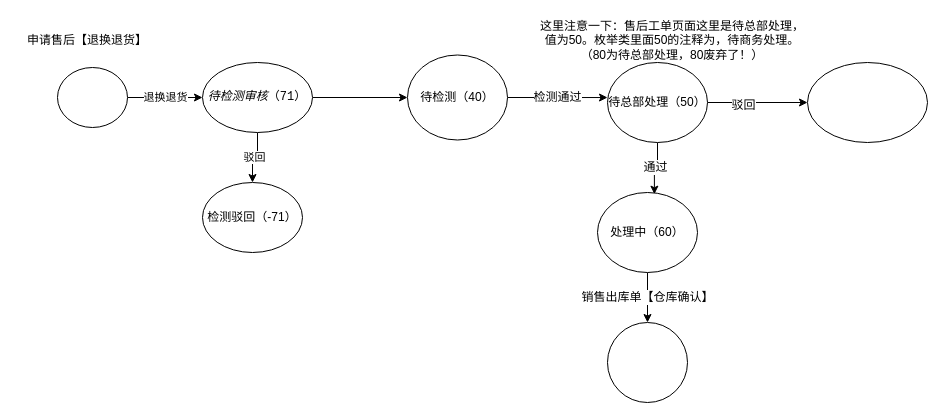
This 945x420 diagram has some shape labels left out. The box of each missing label's shape, as (x1, y1, x2, y2) in pixels:
已完成（100）: (606, 322, 688, 402)
总部驳回（-81）: (806, 62, 928, 142)
申请售后: (56, 66, 128, 128)
